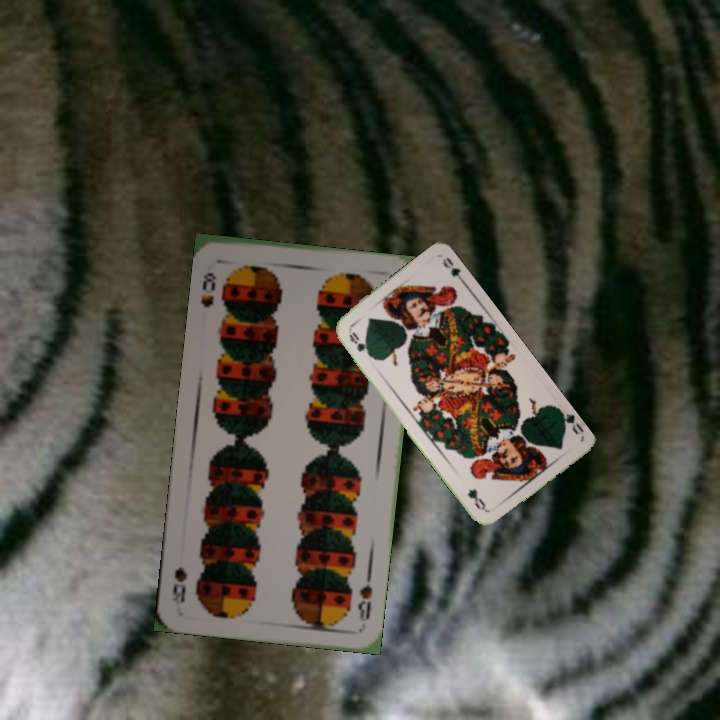GO: (555, 404, 585, 437), (345, 328, 375, 360)
S8: (353, 568, 376, 625), (197, 268, 219, 310)
